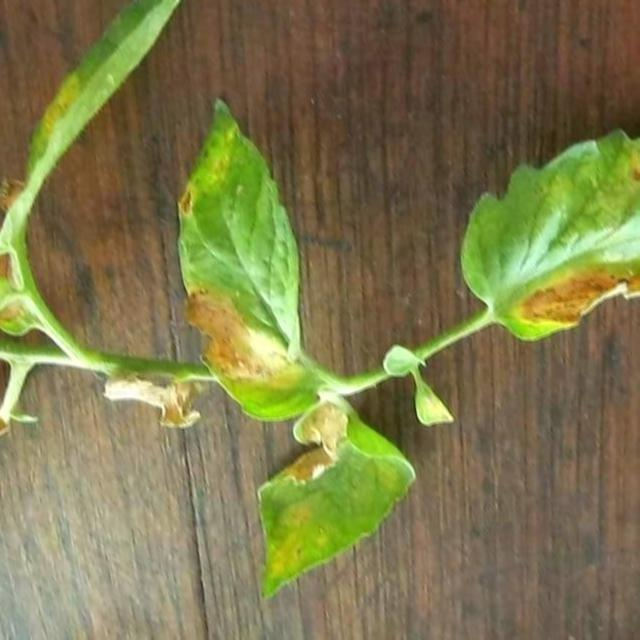Tomato Early blight leaf: (173, 86, 329, 435), (459, 85, 640, 339)
